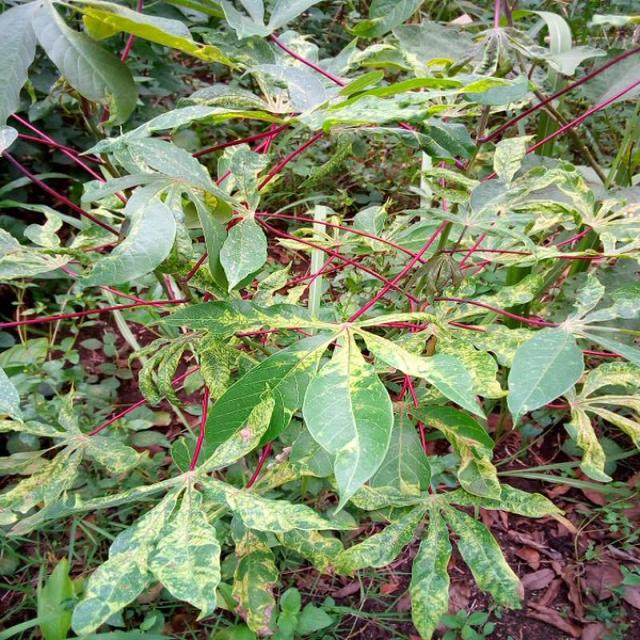cassava leaf: (1, 1, 638, 637), (301, 331, 394, 514), (78, 197, 176, 288), (506, 324, 584, 426)
